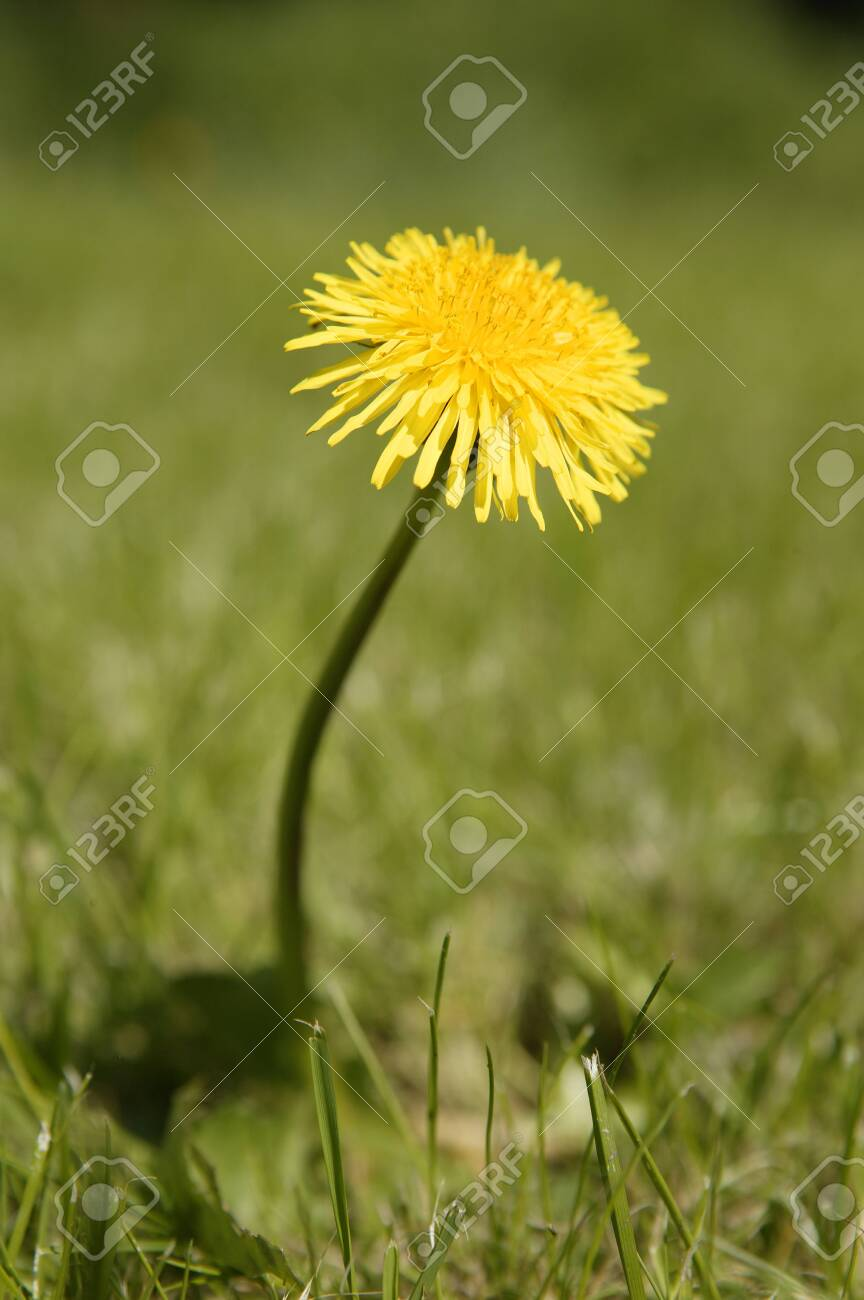dandelion: (314, 232, 630, 505)
